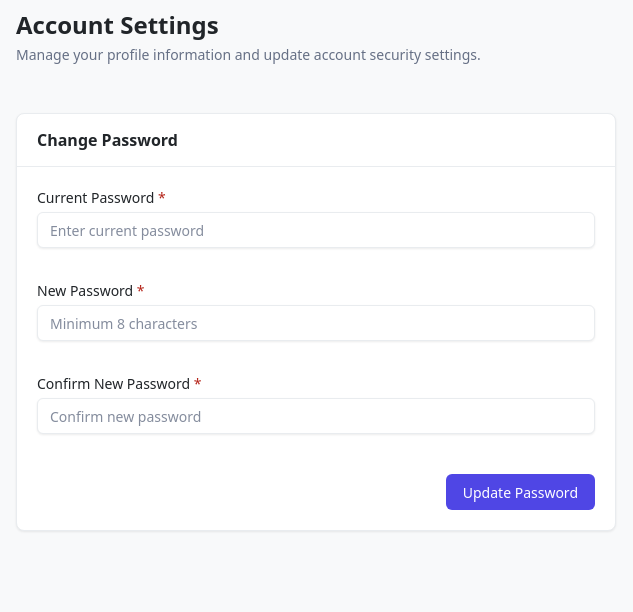
Test: AccountPage › surfaces general API errors
The width and height of the screenshot is (633, 612).
Type "wrongpass" into the password field labelled "Current Password" at (316, 230), box [37,212,595,248]
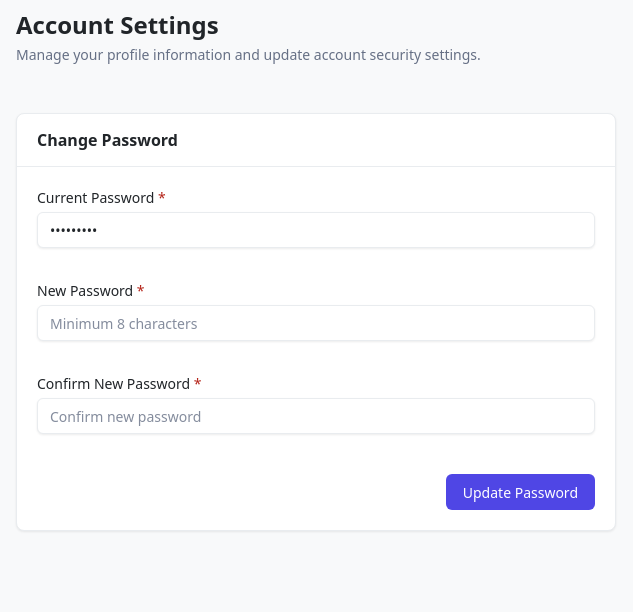
Type "newpassword123" into the password field labelled "New Password" at (316, 323), box [37,305,595,341]
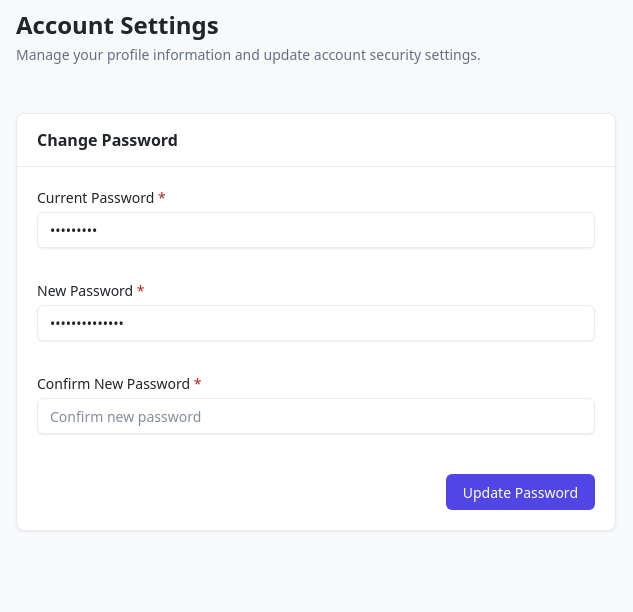
Type "newpassword123" into the password field labelled "Confirm New Password" at (316, 416), box [37,398,595,434]
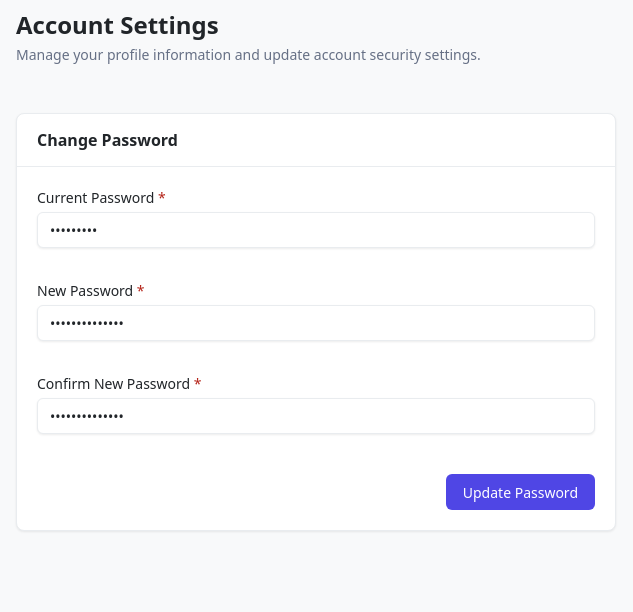
Click the button "Update Password" at (520, 492), box [446,474,595,510]
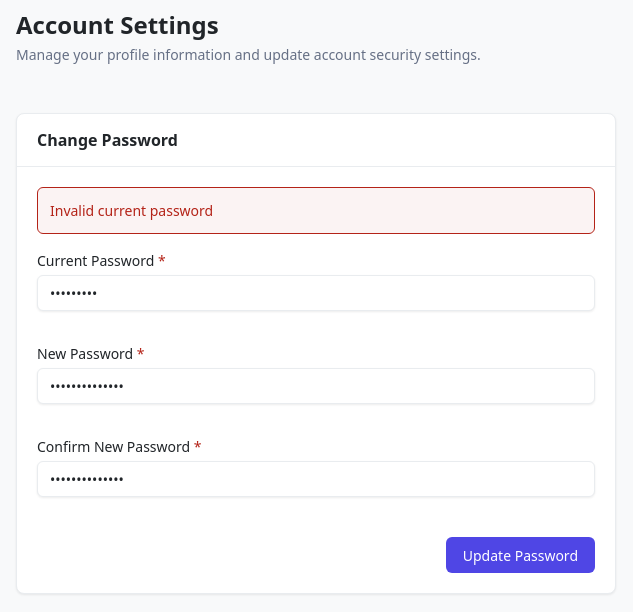
expect the text "Invalid current password" is shown: met, box [37,187,595,234]
